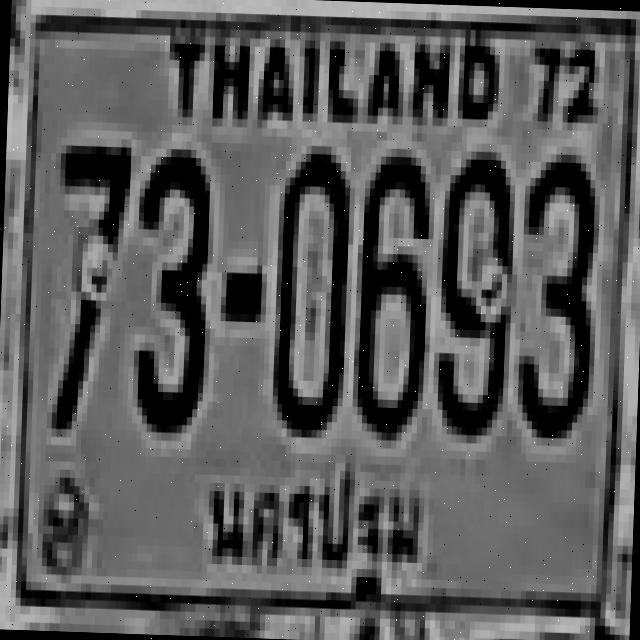0: (268, 144, 348, 430)
3: (126, 139, 211, 425), (512, 144, 596, 430)
6: (348, 147, 428, 433)
7: (46, 137, 131, 430)
9: (432, 142, 512, 428)
NakhonPathom: (197, 452, 431, 598)
